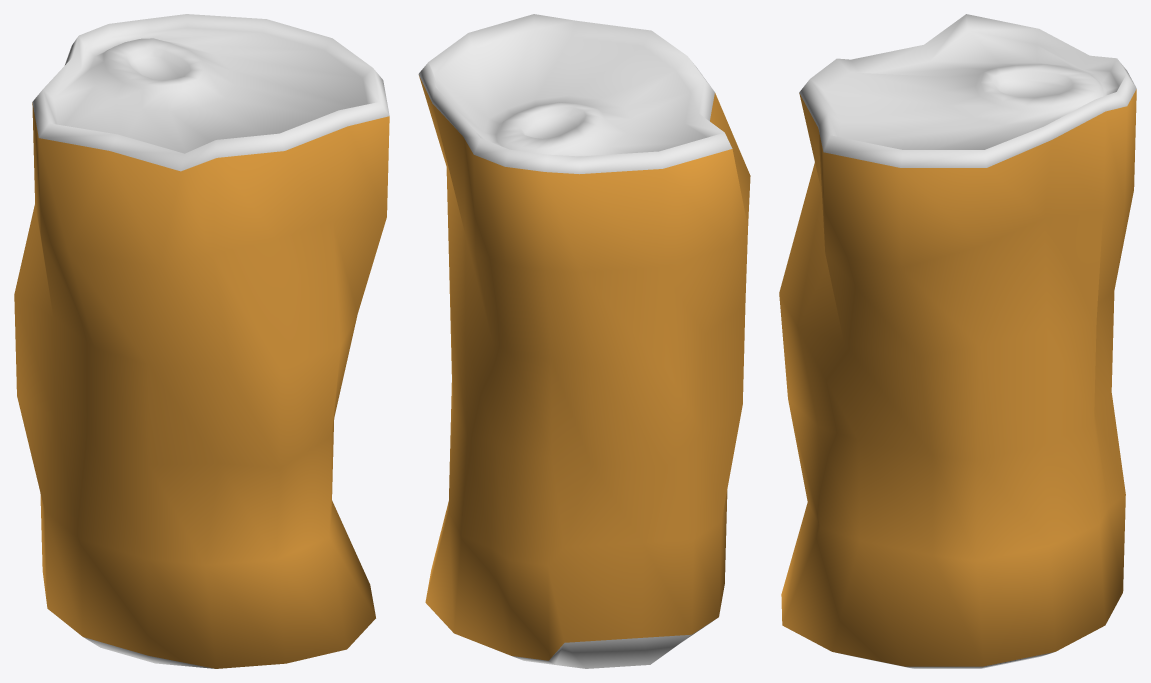
File: lataDestruida2.glb
The picture shows the model from 3 angles, left to right: view 1: azimuth 30°, elevation 25°; view 2: azimuth 150°, elevation 25°; view 3: azimuth 270°, elevation 25°; orthographic projection. The views are drawn at different scales.
Parts seen in each view (by area): view 1: Cylinder.001; view 2: Cylinder.001; view 3: Cylinder.001.
Boxes of the visible parts, bbox=[...] form: Cylinder.001: bbox=[14, 14, 389, 668]; Cylinder.001: bbox=[418, 14, 750, 668]; Cylinder.001: bbox=[779, 14, 1136, 668].
Size of the model in its own units: 1.28 by 2.12 by 1.27.
